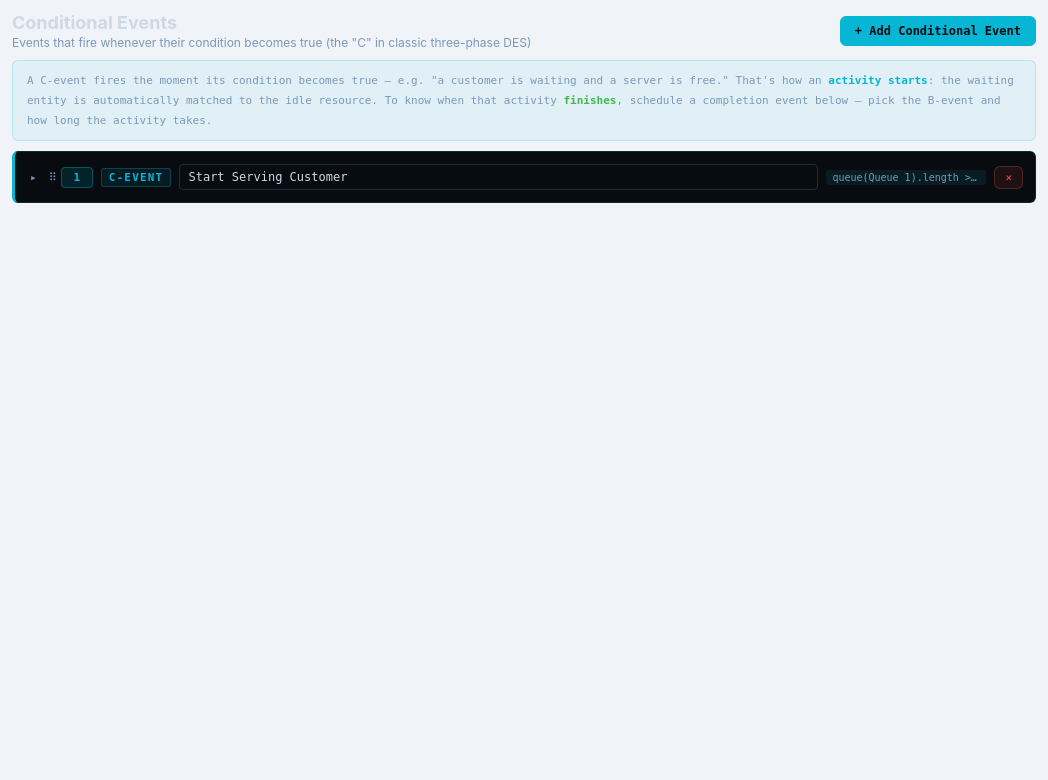
it: CEventEditor — ConditionBuilder token list staleness (C8) › writes visible fallback condition tokens back to the canonical C-event value
This screenshot has width=1048, height=780.
Card is collapsed by default — expand it first
Click the button named "Expand".
click(33, 177)  # box [27, 170, 40, 185]
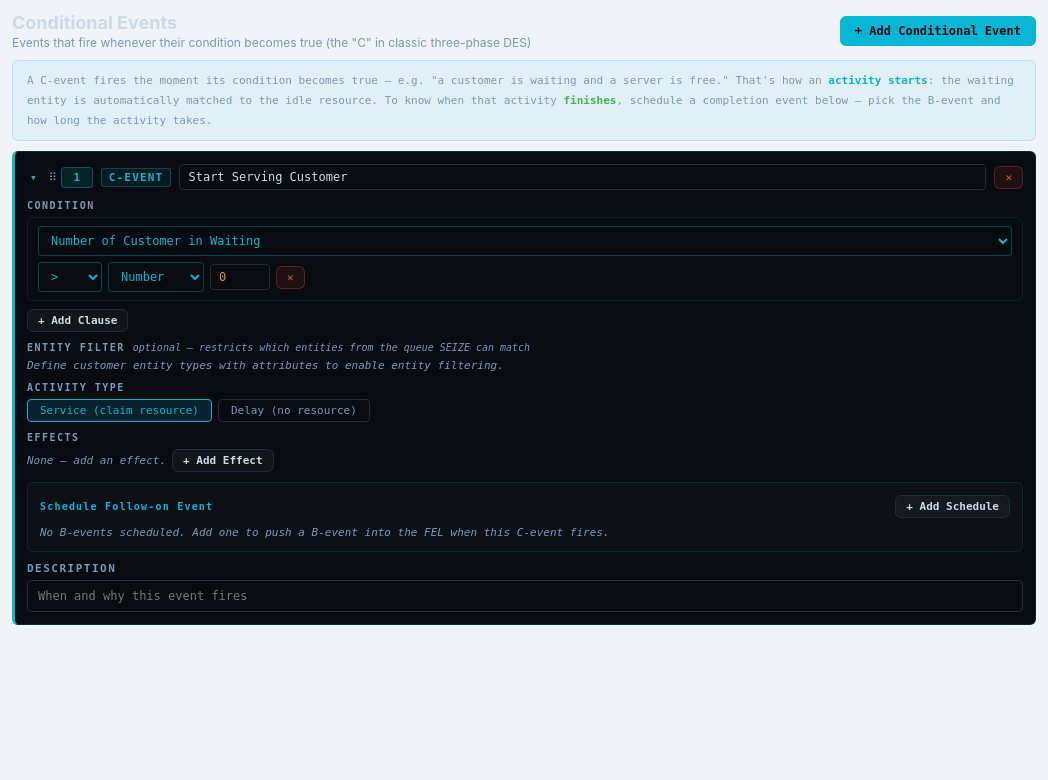
Now the dropdown named "Number of Customer in Waiting" shows "Number of Customer in Waiting", box [38, 226, 1012, 256]
